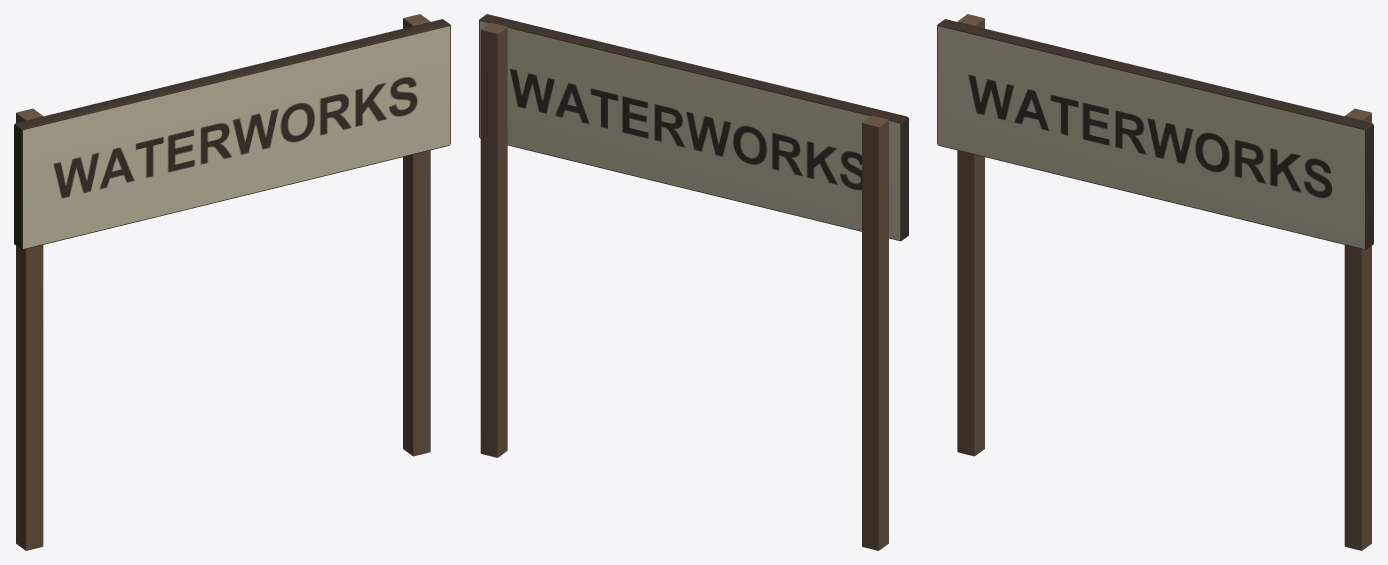
The model's file is NorthCountyWaterworks_Sign.fbx.
3 views of the same model, side by side, from view 1: azimuth 30°, elevation 25°; view 2: azimuth 150°, elevation 25°; view 3: azimuth 330°, elevation 25° (orthographic).
Visible parts, largest first — view 1: NorthCountyWaterworks_Sign; view 2: NorthCountyWaterworks_Sign; view 3: NorthCountyWaterworks_Sign.
Part boxes in pixels (x1,y1,x2,y2): NorthCountyWaterworks_Sign: (14, 14, 450, 550); NorthCountyWaterworks_Sign: (479, 14, 908, 550); NorthCountyWaterworks_Sign: (937, 14, 1373, 550).
Size of the model in its own units: 2.4 by 2.3 by 0.18.
